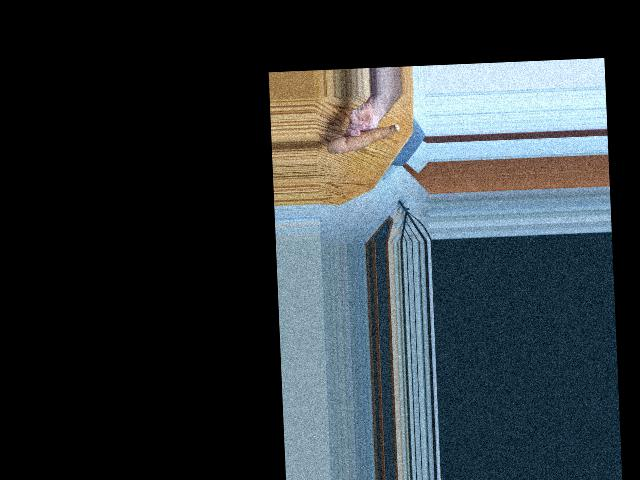sweet_potato: (328, 120, 401, 156)
